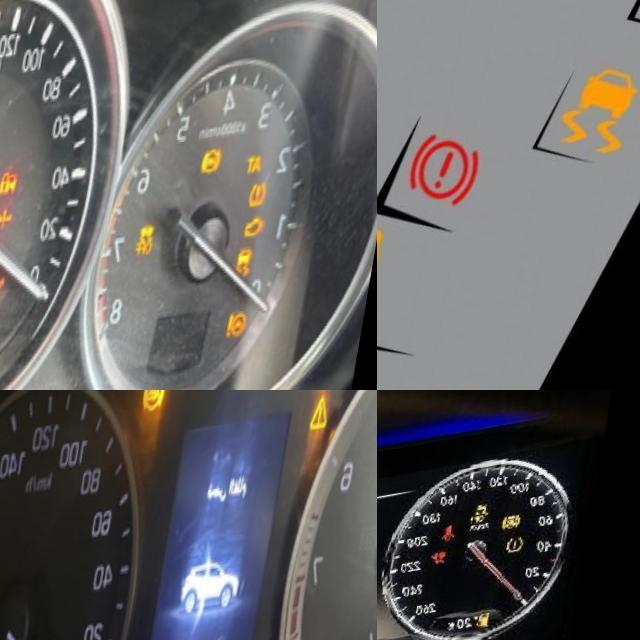Electronic Power Steering: (240, 327, 266, 360)
